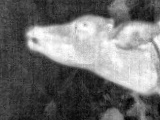eye: (78, 21, 95, 32)
